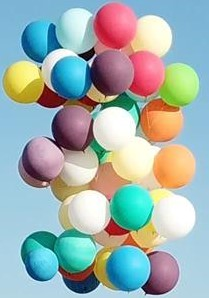Balloon: (107, 245, 151, 290), (56, 8, 99, 54), (69, 190, 112, 235), (110, 184, 153, 229), (93, 107, 137, 150), (140, 98, 183, 142), (54, 229, 97, 273), (92, 50, 134, 95), (52, 105, 93, 151), (22, 136, 63, 182), (94, 5, 137, 48), (112, 136, 154, 180), (154, 144, 194, 189), (3, 60, 44, 103), (154, 195, 195, 238), (126, 51, 165, 96), (51, 56, 91, 99), (132, 14, 172, 55), (21, 19, 59, 62), (142, 251, 180, 294), (162, 63, 199, 106), (62, 150, 99, 186), (25, 247, 59, 281)
